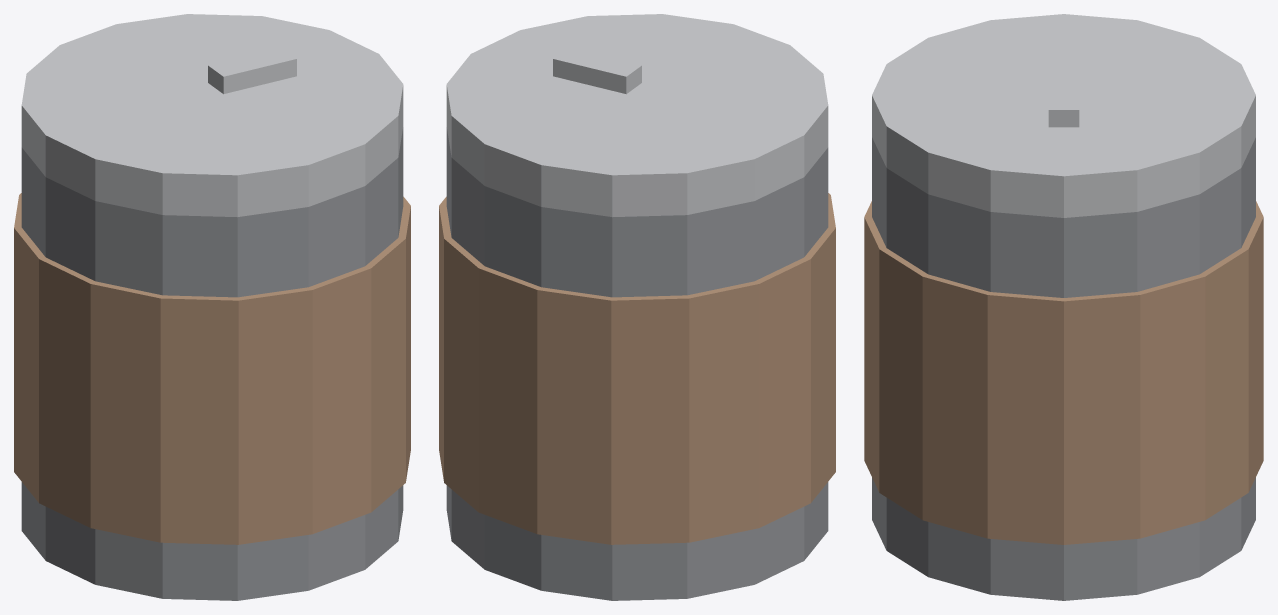
The model's file is tin_can.glb.
3 views of the same model, side by side, from view 1: azimuth 30°, elevation 25°; view 2: azimuth 150°, elevation 25°; view 3: azimuth 270°, elevation 25° (orthographic).
Parts seen in each view (by area): view 1: tin_can; view 2: tin_can; view 3: tin_can.
Part boxes in pixels (left/top/right/bottom): tin_can: left=14, top=14, right=410, bottom=600; tin_can: left=439, top=14, right=835, bottom=600; tin_can: left=864, top=14, right=1263, bottom=600.
Bounding box in the file's own units: 0.104 × 0.1285 × 0.104.
